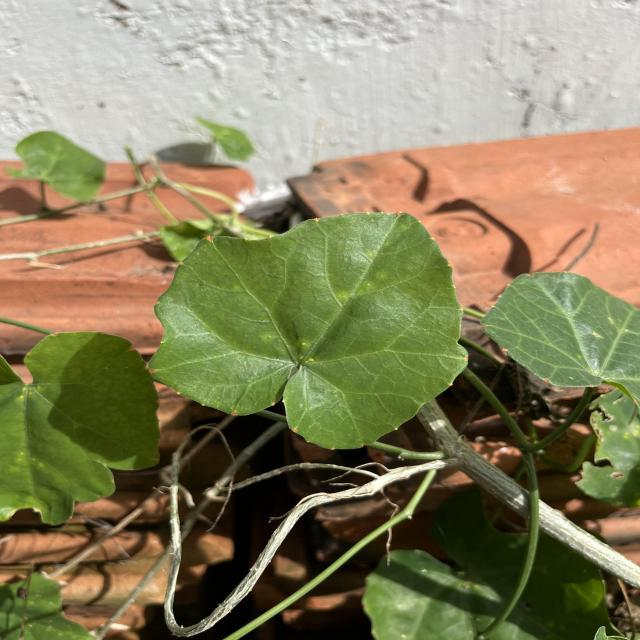Coccinia grandis: (146, 210, 472, 454)
